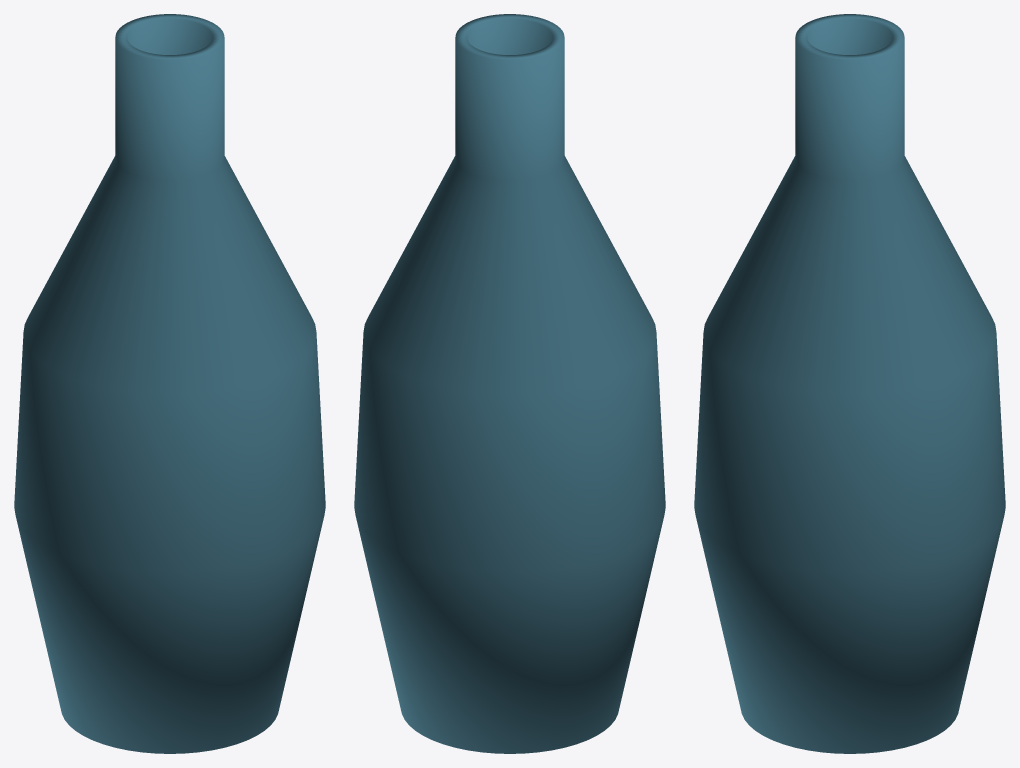
Rendered from florero_azul_base.glb.
The picture shows the model from 3 angles, left to right: view 1: azimuth 30°, elevation 25°; view 2: azimuth 150°, elevation 25°; view 3: azimuth 270°, elevation 25°; orthographic projection.
Visible parts, largest first — view 1: florero_azul_base; view 2: florero_azul_base; view 3: florero_azul_base.
Part boxes in pixels (x1,y1,x2,y2): florero_azul_base: [14, 14, 325, 753]; florero_azul_base: [354, 14, 665, 753]; florero_azul_base: [694, 14, 1005, 753].
Size of the model in its own units: 0.16 by 0.38 by 0.16.
